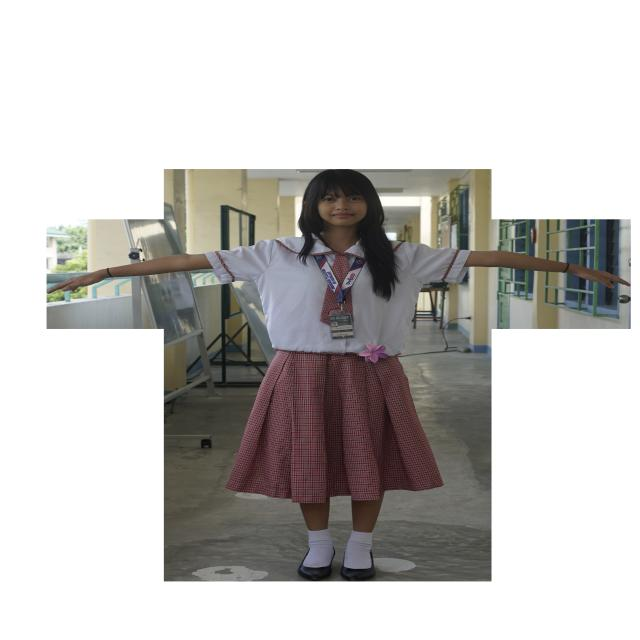id lace: (315, 256, 365, 305)
pologirl: (205, 236, 470, 359), (321, 285, 337, 324), (332, 254, 352, 285), (345, 301, 352, 312)
shoes: (340, 552, 376, 581), (297, 556, 332, 581)
skirt: (227, 350, 443, 503)
